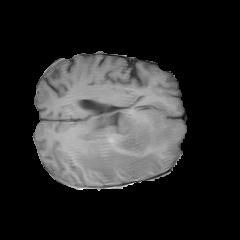glioma: (74, 109, 171, 183)
